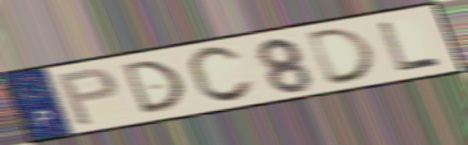8: (253, 34, 315, 95)
C: (184, 44, 258, 106)
D: (305, 24, 381, 88), (118, 58, 189, 117)
L: (375, 19, 444, 74)
P: (54, 65, 121, 129)
